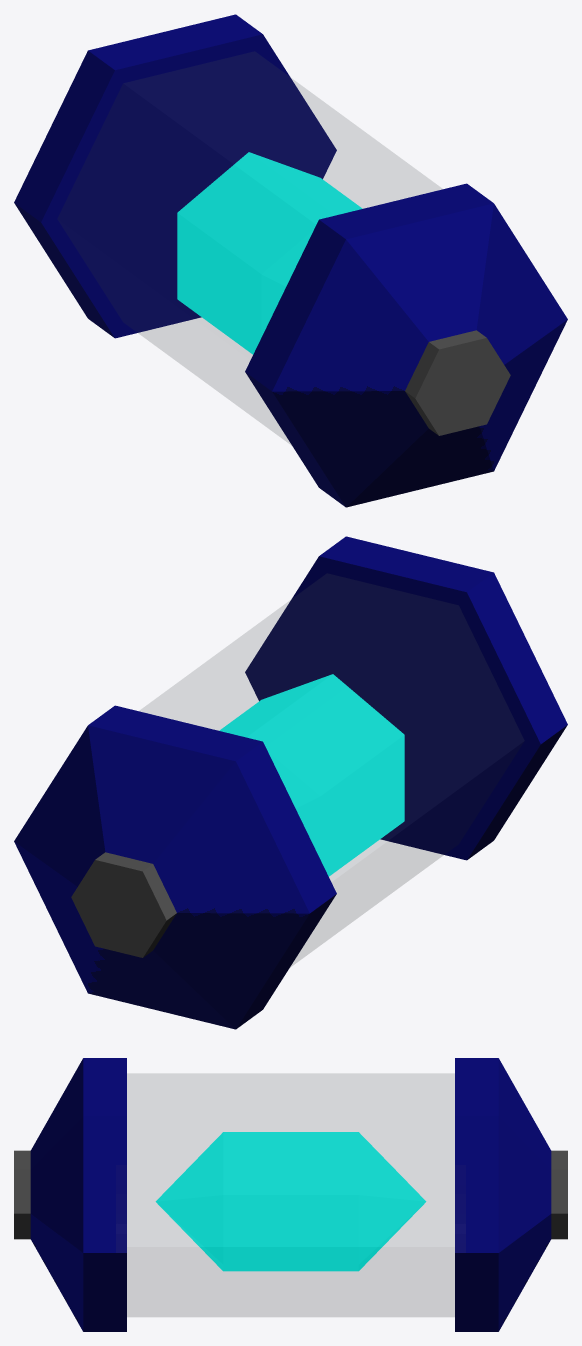
File: powerups.glb
The picture shows the model from 3 angles, top to bottom: view 1: azimuth 30°, elevation 25°; view 2: azimuth 150°, elevation 25°; view 3: azimuth 270°, elevation 25°; orthographic projection. The views are drawn at different scales.
Visible parts, largest first — view 1: Cylinder, Cylinder.001, Sphere; view 2: Cylinder, Cylinder.001, Sphere; view 3: Cylinder.001, Cylinder, Sphere.
Boxes of the visible parts, x1,y1,x2,y2 form: Cylinder: (14,14,567,507); Cylinder.001: (58,52,441,444); Sphere: (177,152,362,354); Cylinder: (14,536,567,1029); Cylinder.001: (140,574,523,966); Sphere: (219,674,404,876); Cylinder.001: (127,1074,454,1316); Cylinder: (14,1058,567,1331); Sphere: (155,1132,426,1271).
Size of the model in its own units: 0.6196 by 0.5366 by 1.25.
3 materials, 1 textured.
